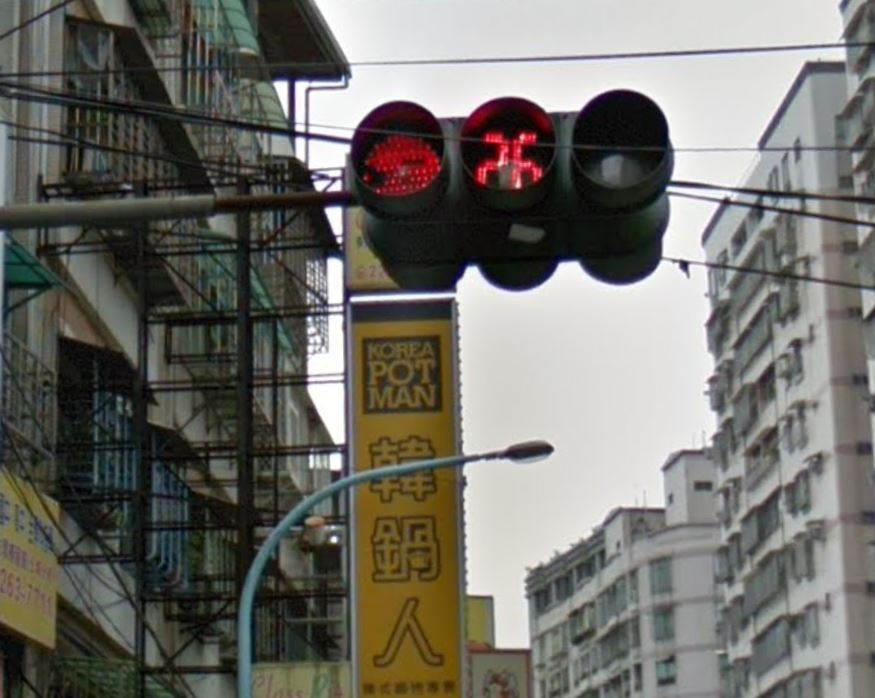Traffic_light_red: (348, 87, 679, 235)
